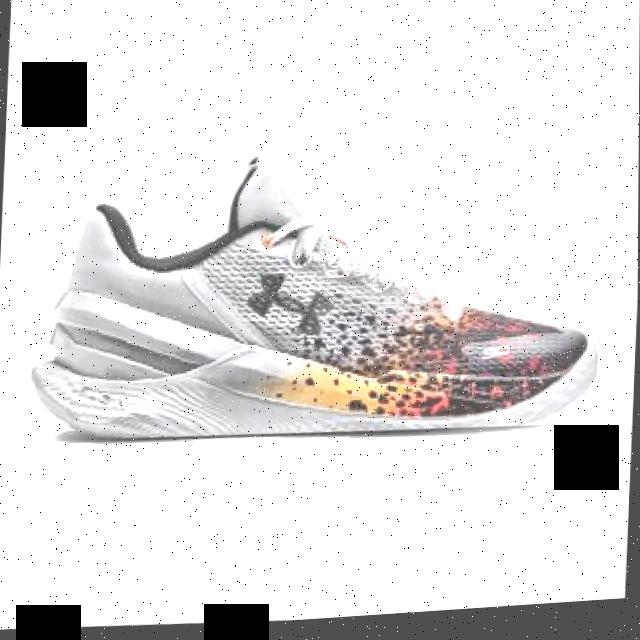shoe: (28, 133, 607, 461)
